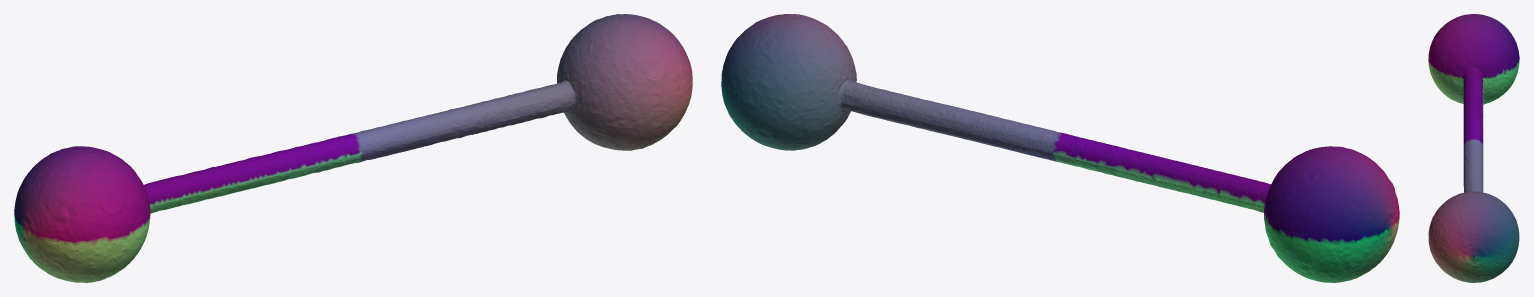
Rendered from twoballs-4.off.obj.
3 views of the same model, side by side, from view 1: azimuth 30°, elevation 25°; view 2: azimuth 150°, elevation 25°; view 3: azimuth 270°, elevation 25° (orthographic). The views are drawn at different scales.
Bounding box in the file's own units: 1.82 × 0.3256 × 0.324.
